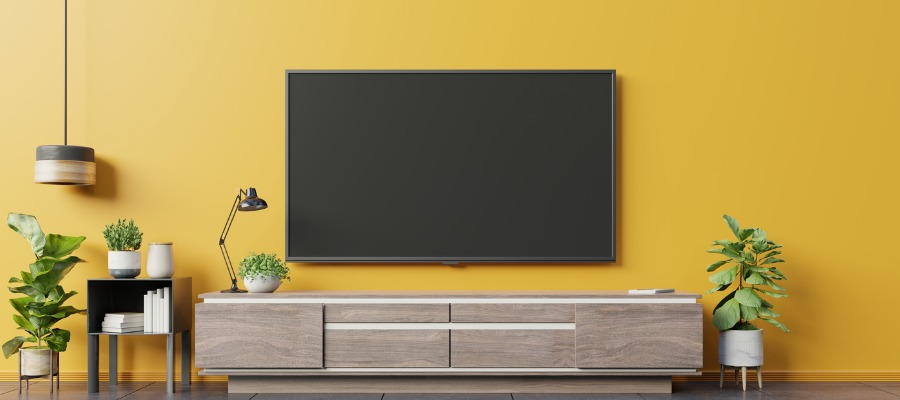tv: (278, 59, 621, 267)
